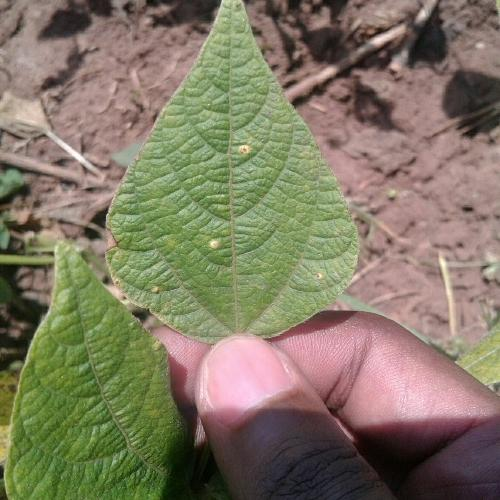hawar: (104, 212, 123, 288)
mozaik: (150, 106, 332, 326)
